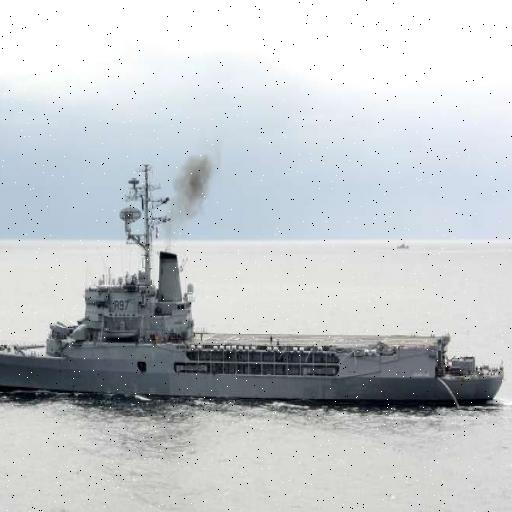Portanaves: (1, 156, 510, 410)
